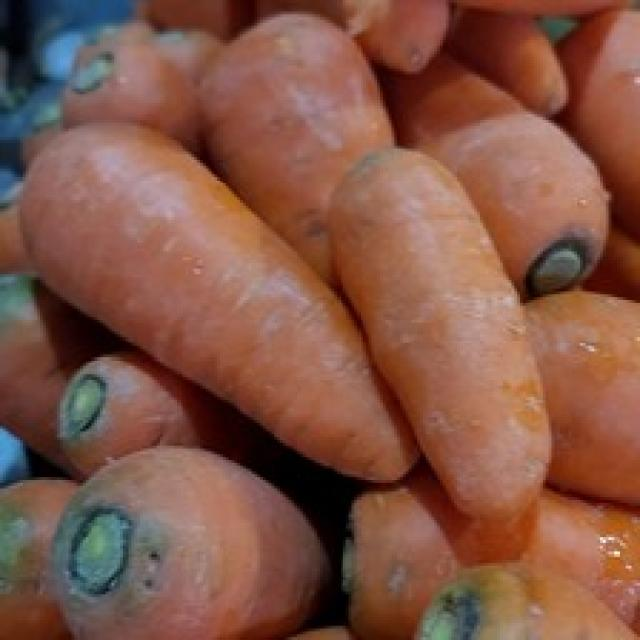Fresh_Carrot: (16, 113, 416, 490), (332, 148, 546, 522)
